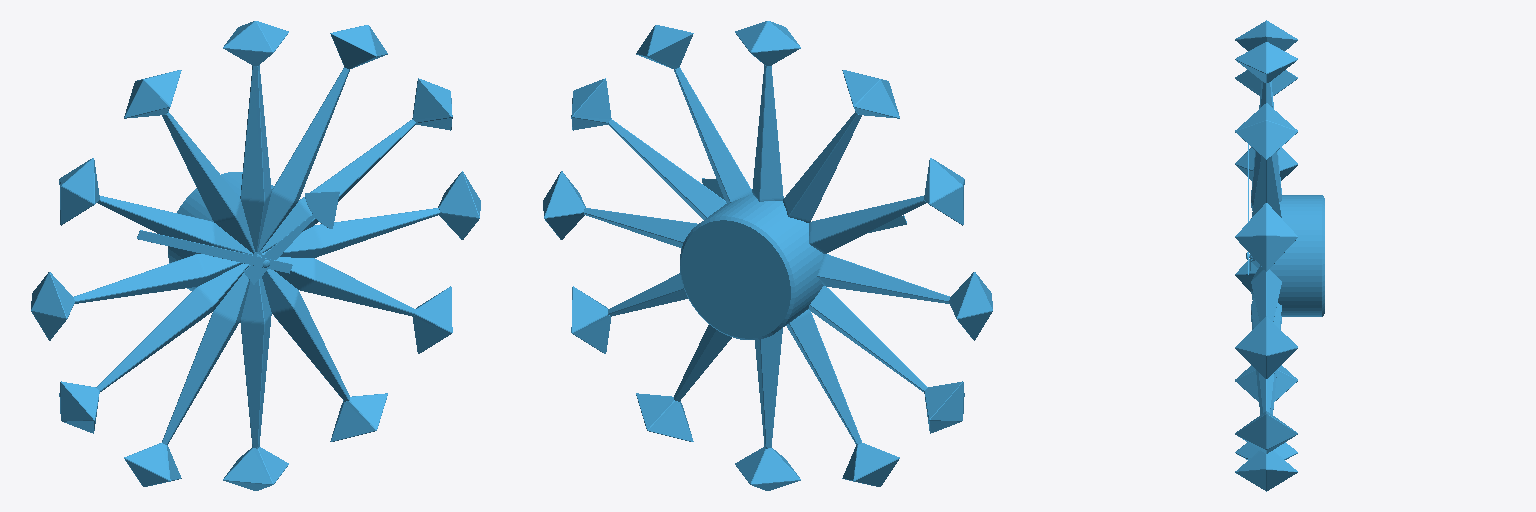
URDF robot description (clock):
<?xml version="0.0" ?>
<robot name="clock">

  <link name="base_link">
    <inertial>
      <origin rpy="0 0 0" xyz="0 0 0"/>
       <mass value=".0"/>
       <inertia ixx="0" ixy="0" ixz="0" iyy="0" iyz="0" izz="0"/>
    </inertial>
  </link>

  <link name="obj">
    <inertial>
      <origin rpy="0 0 0" xyz="0 0 0"/>
       <mass value=".0"/>
       <inertia ixx="0" ixy="0" ixz="0" iyy="0" iyz="0" izz="0"/>
    </inertial>
    <visual>
      <origin rpy="0 0 0" xyz="0 0 0"/>
      <geometry>
        <mesh filename="package://uwds3/models/cad_models/obj/Vitra_Polygon_Clock_Nelson.obj" scale="0.015 0.015 0.015"/>
      </geometry>


    </visual>
  </link>

  <joint name="base_to_obj" type="revolute">
    <parent link="base_link"/>
    <child link="obj"/>
    <axis xyz="0 0 1"/>
    <limit effort="1000.0" lower="0.0" upper="1.57" velocity="0.5"/>
    <origin rpy="0 0 0" xyz="0 0 0"/>
  </joint>




</robot>

--- What the picture shows (computed from the rendered views, not written in the file) ---
3 views of the same robot in one strip: view 1: azimuth 30°, elevation 25°; view 2: azimuth 150°, elevation 25°; view 3: azimuth 270°, elevation 25° (orthographic).
Robot: clock — 2 links, 1 joints (1 revolute); root link base_link; default pose: every joint at zero.
Visible links, largest first — view 1: obj; view 2: obj; view 3: obj.
Link boxes in pixels (x1,y1,x2,y2): obj: (31, 21, 480, 490); obj: (543, 21, 992, 490); obj: (1235, 20, 1324, 491).
Bounding box of the posed robot: 0.645 × 0.123 × 0.645 m (x, y, z).
1 mesh visuals loaded from 1 distinct referenced files (1 OBJ).
